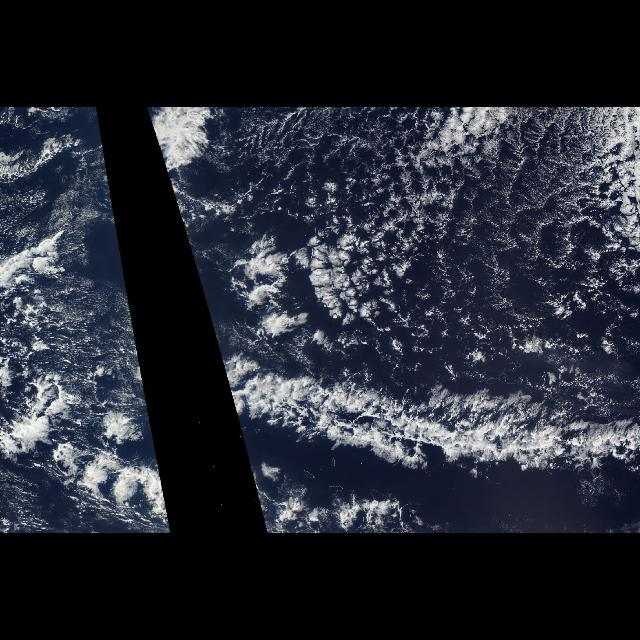Fish: (214, 333, 640, 533), (0, 333, 174, 533)
Gravel: (270, 108, 488, 312)
Sugar: (314, 109, 640, 355), (48, 152, 144, 418)
